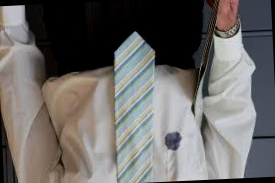ink: (165, 134, 182, 151)
